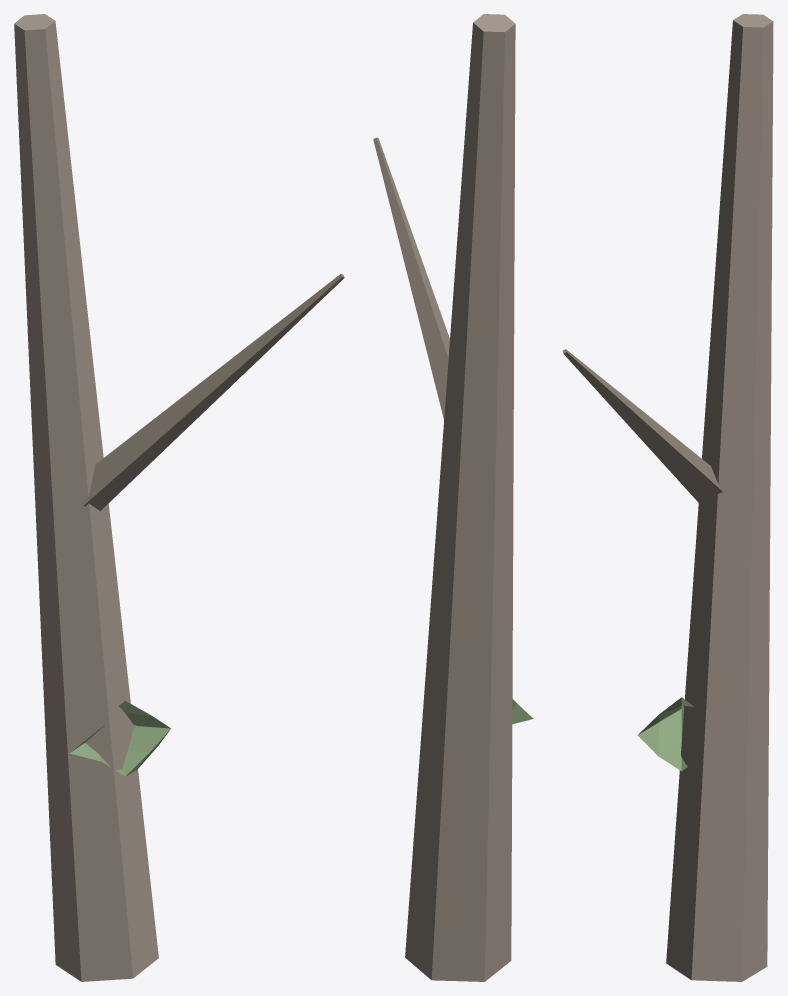
Rendered from snag_v16.glb.
3 views of the same model, side by side, from view 1: azimuth 30°, elevation 25°; view 2: azimuth 150°, elevation 25°; view 3: azimuth 270°, elevation 25° (orthographic). The views are drawn at different scales.
Visible parts, largest first — view 1: lod0; view 2: lod0; view 3: lod0.
Part boxes in pixels (bbox=[...]): lod0: bbox=[14, 14, 344, 981]; lod0: bbox=[373, 14, 533, 981]; lod0: bbox=[562, 14, 773, 981].
Size of what is drawn, in the model's own units: 0.7393 by 2.91 by 0.6038.
